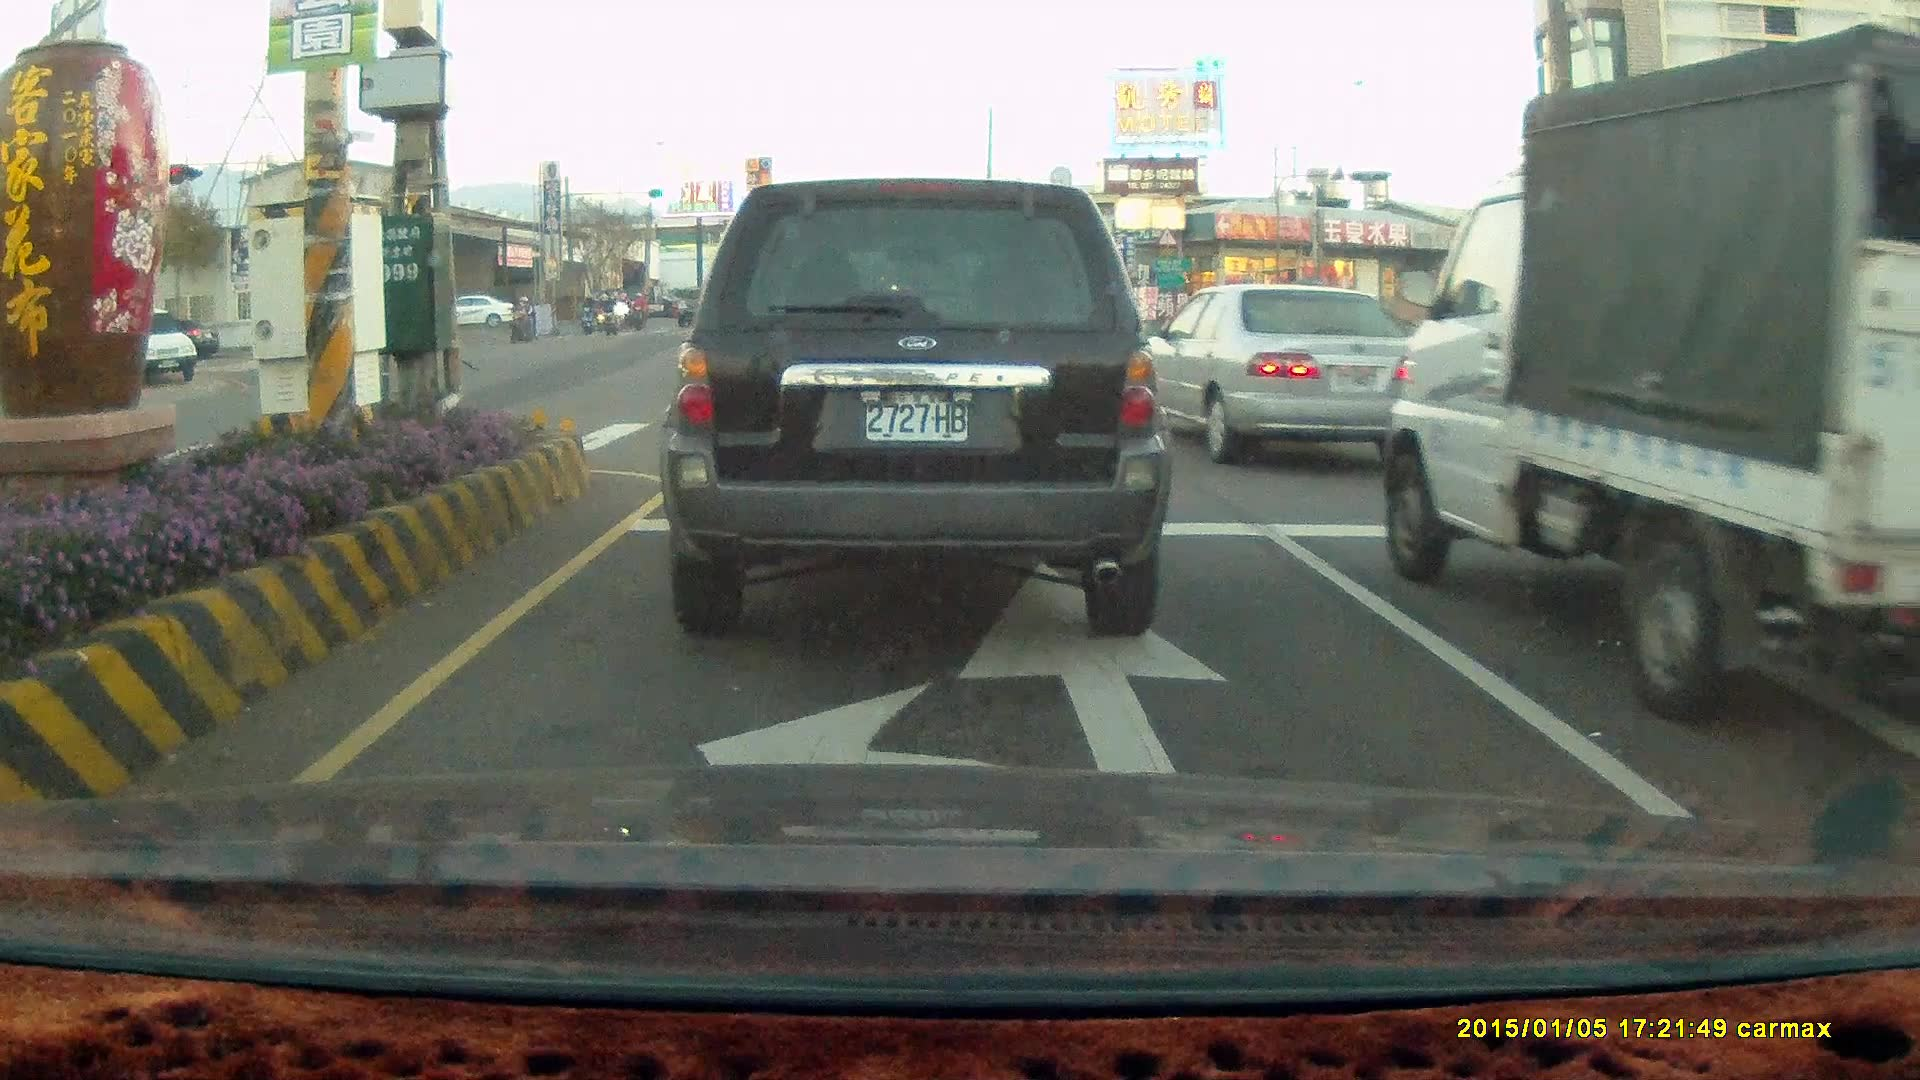rider: (504, 295, 536, 342), (600, 290, 626, 340), (577, 291, 598, 338), (628, 289, 648, 329)
vehicle: (1381, 22, 1920, 724), (654, 175, 1170, 634), (1131, 280, 1441, 465), (1126, 286, 1423, 464), (1687, 284, 1844, 372), (108, 309, 200, 390), (448, 297, 513, 331)
